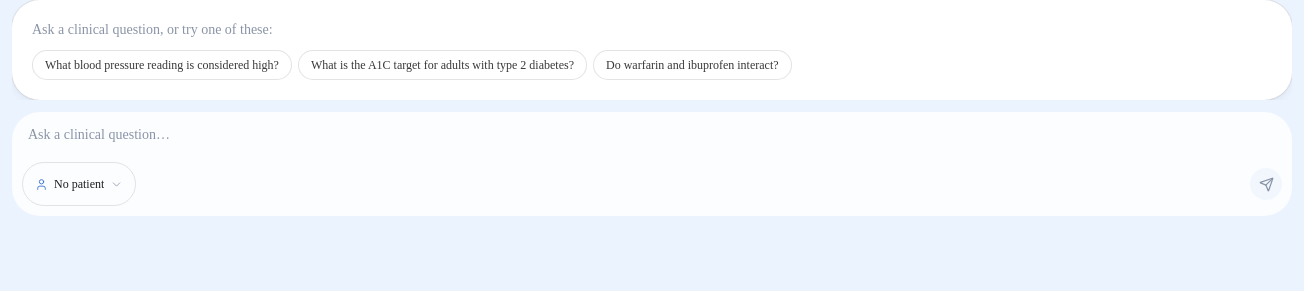
Test: CopilotPanel answer_delta streaming › still reveals the answer when final arrives with no prior deltas
Type "first-line therapy?" into the text box with placeholder "Ask a clinical question…" at [652, 134], box [12,112,1292,156]
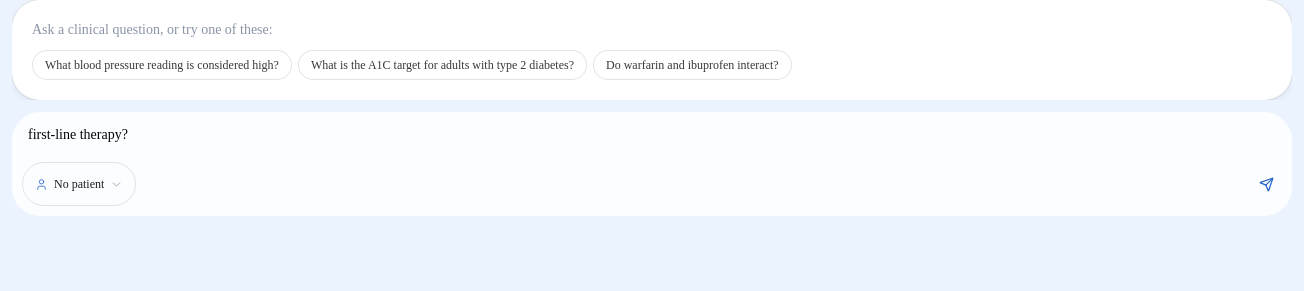
Click the button named "Send" at [1266, 184], box [1250,168,1282,200]
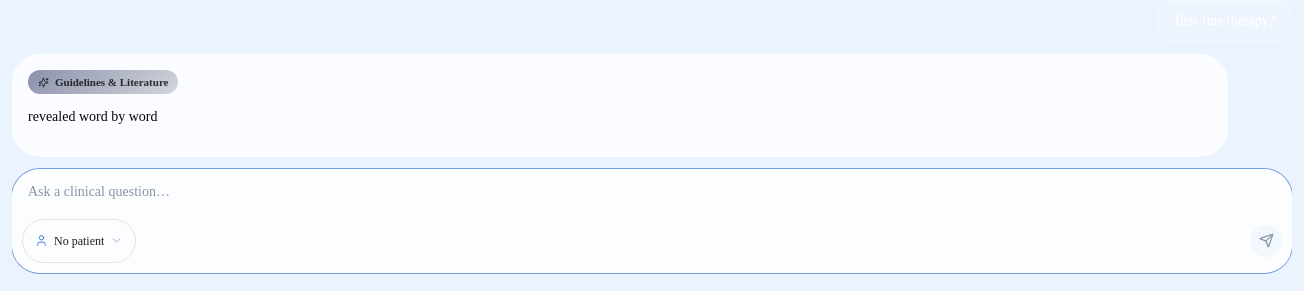
Expected: the text "revealed word by word" is shown, [28,109,158,124]
